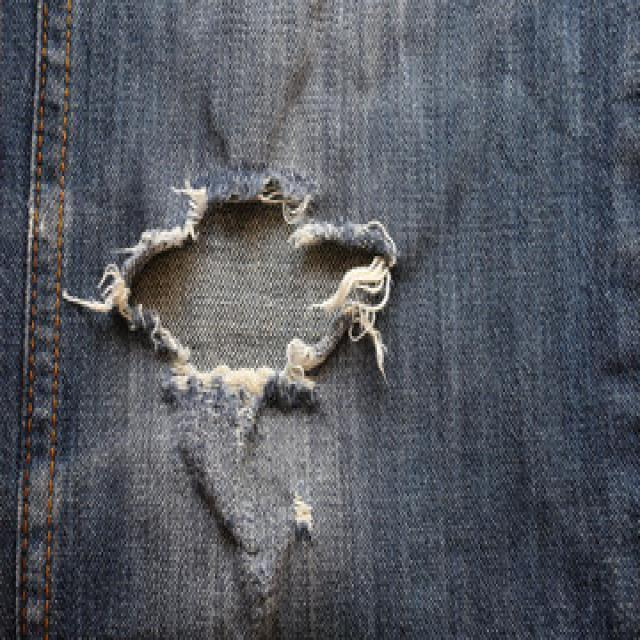Hole: (101, 173, 398, 402)
